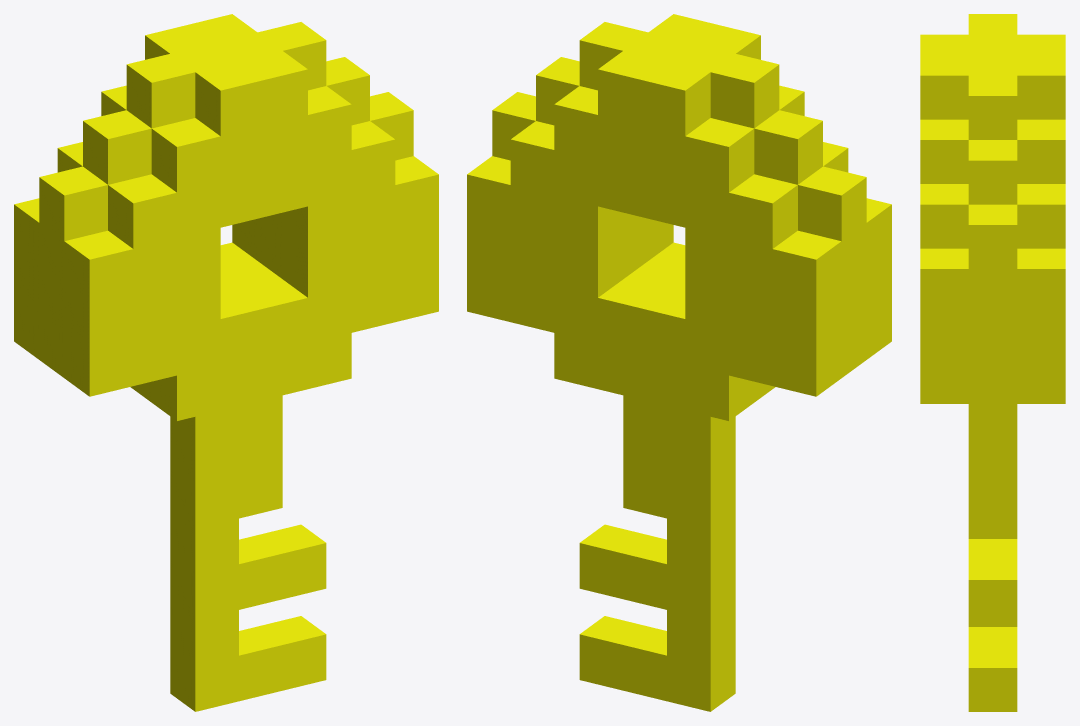
The model's file is key.obj.
3 renders of one model, left to right at view 1: azimuth 30°, elevation 25°; view 2: azimuth 150°, elevation 25°; view 3: azimuth 270°, elevation 25°, orthographic. The views are drawn at different scales.
Visible parts, largest first — view 1: Cube.007_Cube.12965; view 2: Cube.007_Cube.12965; view 3: Cube.007_Cube.12965.
Part boxes in pixels (box(x1,y1,x2,y2)): Cube.007_Cube.12965: box(14, 14, 438, 711); Cube.007_Cube.12965: box(467, 14, 891, 711); Cube.007_Cube.12965: box(920, 14, 1065, 711).
Bounding box in the file's own units: 0.5 × 0.875 × 0.1875.
